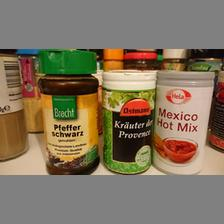Gewuerze: (38, 49, 98, 173), (152, 69, 212, 173), (100, 70, 155, 174)
